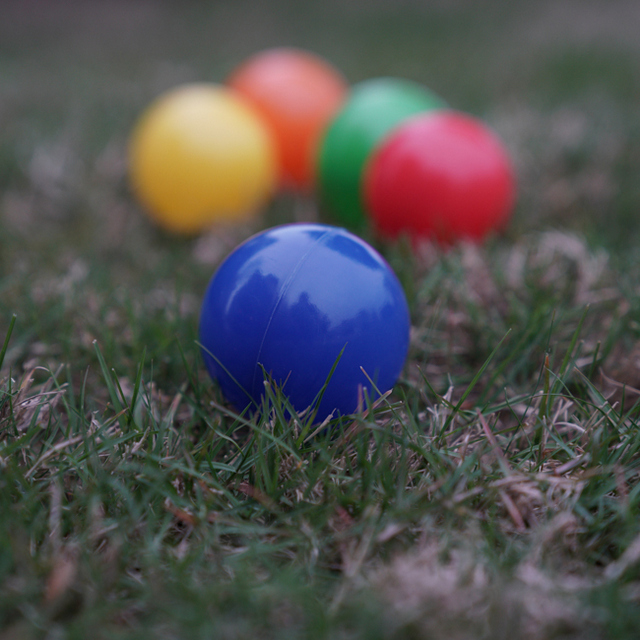Ball: (201, 225, 409, 421)
